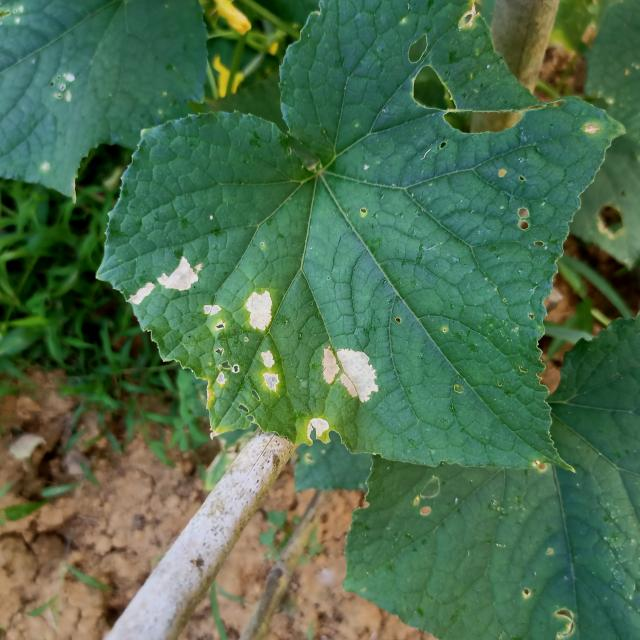disease_cucumber: (197, 284, 293, 414), (126, 250, 204, 308), (317, 344, 384, 406), (301, 414, 333, 444)
